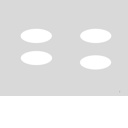round: (77, 26, 113, 46), (18, 49, 55, 68), (77, 53, 113, 72), (18, 26, 54, 44)
